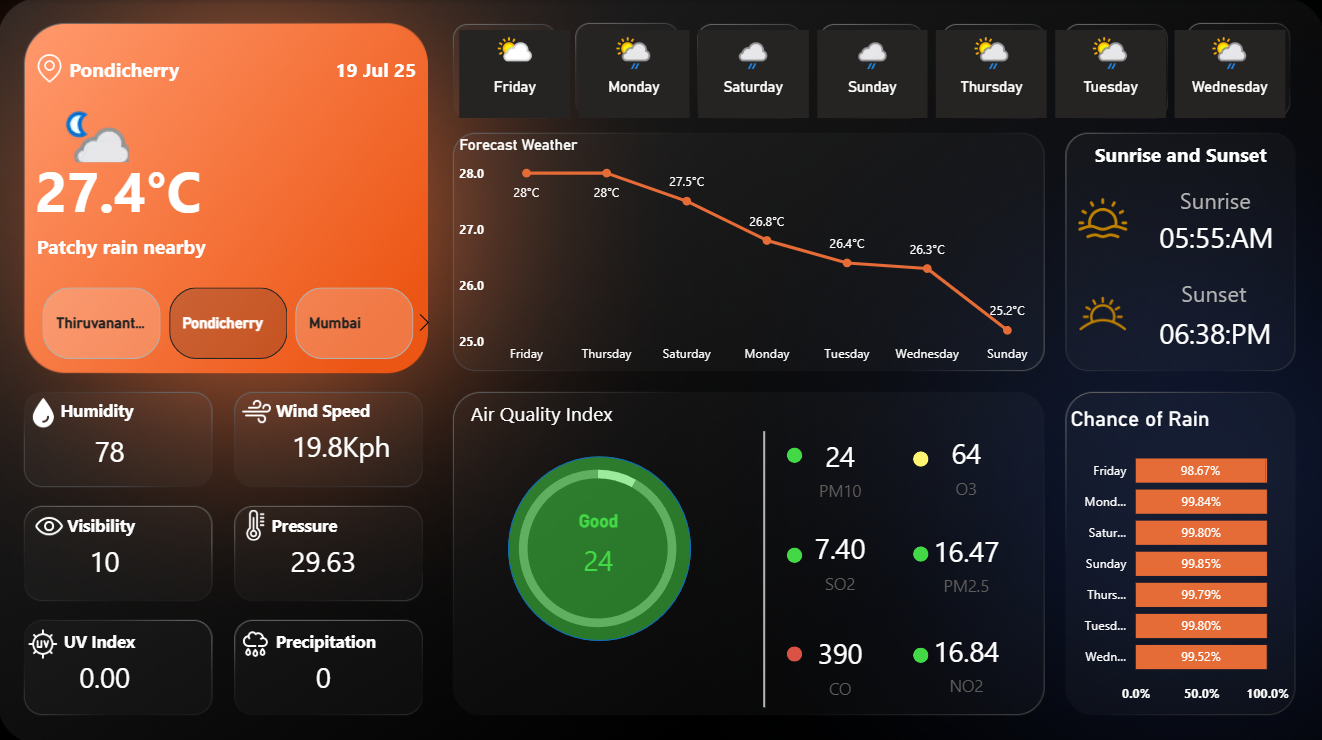

This screenshot's page, from the dashboard's own definition file:
{"tool":"powerbi","page":{"name":"Weather_Dashboard","canvas":[1280,720],"ordinal":0},"visuals":[{"type":"donutChart","fields":{"Y":["Sum(Current.current.air_quality.pm10)","_Measure.Left_value_PM10"]},"box":[468.3,430,221.7,200],"z":0},{"type":"shape","box":[491.7,440,176.7,178.3],"z":1000},{"type":"advancedSlicerVisual","fields":{"Values":["Locations.location.name"]},"box":[17.9,273.1,408.1,79.7],"z":2000},{"type":"shape","box":[35.8,126.8,190.2,110.6],"z":3000},{"type":"shape","box":[37,217.2,188.1,41.3],"z":4000},{"type":"shape","box":[68.3,45.5,188.6,40.6],"z":5000},{"type":"shape","box":[250.4,45.5,152.8,40.6],"z":6000},{"type":"image","box":[30.9,45.5,37.4,40.6],"z":7000},{"type":"cardVisual","fields":{"Data":["Min(Current.current.condition.icon)"]},"box":[35.8,86.2,95.9,76.4],"z":8000},{"type":"image","box":[24.4,487.7,50.4,40.6],"z":9000},{"type":"image","box":[222.7,601.5,50.4,39],"z":10000},{"type":"image","box":[17.9,601.5,50.4,39],"z":11000},{"type":"image","box":[224.4,377.2,50.4,39],"z":12000},{"type":"image","box":[19.5,378.8,48.8,39],"z":13000},{"type":"image","box":[222.7,487.7,50.4,39],"z":14000},{"type":"textbox","box":[43.9,380.4,104,37.4],"z":15000},{"type":"textbox","box":[248.7,380.4,115.4,37.4],"z":16000},{"type":"textbox","box":[50.4,491,97.5,37.4],"z":17000},{"type":"textbox","box":[250.4,491,89.4,37.4],"z":18000},{"type":"textbox","box":[48.8,603.2,99.2,37.4],"z":19000},{"type":"textbox","box":[263.4,603.2,123.6,37.4],"z":20000},{"type":"card","fields":{"Values":["Sum(Current.current.humidity)"]},"box":[68.3,400,78.3,71.7],"z":21000},{"type":"card","fields":{"Values":["_Measure.Wind_Speed"]},"box":[274.8,399.9,112.2,65],"z":22000},{"type":"card","fields":{"Values":["Sum(Current.current.pressure_in)"]},"box":[274.8,510.5,78,65],"z":23000},{"type":"card","fields":{"Values":["Sum(Current.current.vis_km)"]},"box":[63.4,510.5,78,65],"z":24000},{"type":"card","fields":{"Values":["Sum(Current.current.uv)"]},"box":[63.4,622.7,78,65],"z":25000},{"type":"card","fields":{"Values":["Sum(Current.current.precip_mm)"]},"box":[274.8,622.7,78,65],"z":26000},{"type":"advancedSlicerVisual","fields":{"Values":["Forecast_Day.Day_Name"]},"box":[440.6,24.4,811.3,95.9],"z":27000},{"type":"lineChart","title":"Forecast Weather","fields":{"Y":["Sum(Forecast_Day.forecast.forecastday.day.avgtemp_c)"],"Category":["Forecast_Day.Day_Name"]},"box":[440,131.7,570,228.3],"z":28000},{"type":"textbox","box":[1031.7,131.7,220,50],"z":29000},{"type":"shape","box":[1120.8,209.9,136.3,37.4],"z":30000},{"type":"shape","box":[1120.6,303.3,136.7,36.7],"z":31000},{"type":"textbox","box":[1120.6,173.3,108.3,53.3],"z":32000},{"type":"textbox","box":[1078.9,263.3,190,58.3],"z":33000},{"type":"image","box":[1031.7,268.3,70,70],"z":34000},{"type":"image","box":[1031.7,181.7,70,56.7],"z":35000},{"type":"textbox","box":[451.7,381.7,220,50],"z":36000},{"type":"card","fields":{"Values":["Sum(Current.current.air_quality.pm10)"]},"box":[761.7,416.7,103.3,71.7],"z":37000},{"type":"card","fields":{"Values":["Sum(Current.current.air_quality.pm2_5)"]},"box":[883.3,505,103.3,76.7],"z":38000},{"type":"card","fields":{"Values":["Sum(Current.current.air_quality.no2)"]},"box":[883.3,601.7,103.3,76.7],"z":39000},{"type":"card","fields":{"Values":["Sum(Current.current.air_quality.o3)"]},"box":[883.3,411.7,103.3,76.7],"z":40000},{"type":"card","fields":{"Values":["Sum(Current.current.air_quality.so2)"]},"box":[761.1,505,103.3,71.7],"z":41000},{"type":"card","fields":{"Values":["Sum(Current.current.air_quality.co)"]},"box":[761.1,606.7,103.3,71.7],"z":42000},{"type":"shape","box":[761.1,431.7,15,15],"z":43000},{"type":"shape","box":[761.1,623.3,15,15],"z":44000},{"type":"shape","box":[761.1,528.3,15,15],"z":45000},{"type":"shape","box":[883.3,435,15,15],"z":46000},{"type":"shape","box":[883.3,526.7,15,15],"z":47000},{"type":"shape","box":[883.3,625,15,15],"z":48000},{"type":"shape","box":[718.3,416.7,43.3,266.7],"z":49000},{"type":"card","fields":{"Values":["Sum(Current.current.air_quality.pm10)"]},"box":[518.3,491.7,121.7,78.3],"z":50000},{"type":"hundredPercentStackedBarChart","title":"Chance of Rain","fields":{"Category":["Forecast_Day.Day_Name"],"Y":["Sum(Forecast_Hour.forecast.forecastday.hour.chance_of_rain)","_Measure.Left_value_Rain"]},"box":[1030.3,392.1,220.8,295.6],"z":51000}]}

Visuals, with their boxes in screenshot pixels (x1, y1, x2, y2), scaled from the page's 1280x720 canvas onto the 1322x740 screenshot:
donutChart - Sum(Current.current.air_quality.pm10) x _Measure.Left_value_PM10: bbox=[484, 442, 713, 647]
shape: bbox=[508, 452, 690, 635]
advancedSlicerVisual - Locations.location.name: bbox=[18, 281, 440, 363]
shape: bbox=[37, 130, 233, 244]
shape: bbox=[38, 223, 232, 266]
shape: bbox=[71, 47, 265, 88]
shape: bbox=[259, 47, 416, 88]
image: bbox=[32, 47, 71, 88]
cardVisual - Min(Current.current.condition.icon): bbox=[37, 89, 136, 167]
image: bbox=[25, 501, 77, 543]
image: bbox=[230, 618, 282, 658]
image: bbox=[18, 618, 71, 658]
image: bbox=[232, 388, 284, 428]
image: bbox=[20, 389, 71, 429]
image: bbox=[230, 501, 282, 541]
textbox: bbox=[45, 391, 153, 429]
textbox: bbox=[257, 391, 376, 429]
textbox: bbox=[52, 505, 153, 543]
textbox: bbox=[259, 505, 351, 543]
textbox: bbox=[50, 620, 153, 658]
textbox: bbox=[272, 620, 400, 658]
card - Sum(Current.current.humidity): bbox=[71, 411, 151, 485]
card - _Measure.Wind_Speed: bbox=[284, 411, 400, 478]
card - Sum(Current.current.pressure_in): bbox=[284, 525, 364, 591]
card - Sum(Current.current.vis_km): bbox=[65, 525, 146, 591]
card - Sum(Current.current.uv): bbox=[65, 640, 146, 707]
card - Sum(Current.current.precip_mm): bbox=[284, 640, 364, 707]
advancedSlicerVisual - Forecast_Day.Day_Name: bbox=[455, 25, 1293, 124]
"Forecast Weather" lineChart: bbox=[454, 135, 1043, 370]
textbox: bbox=[1066, 135, 1293, 187]
shape: bbox=[1158, 216, 1298, 254]
shape: bbox=[1157, 312, 1299, 349]
textbox: bbox=[1157, 178, 1269, 233]
textbox: bbox=[1114, 271, 1311, 331]
image: bbox=[1066, 276, 1138, 348]
image: bbox=[1066, 187, 1138, 245]
textbox: bbox=[467, 392, 694, 444]
card - Sum(Current.current.air_quality.pm10): bbox=[787, 428, 893, 502]
card - Sum(Current.current.air_quality.pm2_5): bbox=[912, 519, 1019, 598]
card - Sum(Current.current.air_quality.no2): bbox=[912, 618, 1019, 697]
card - Sum(Current.current.air_quality.o3): bbox=[912, 423, 1019, 502]
card - Sum(Current.current.air_quality.so2): bbox=[786, 519, 893, 593]
card - Sum(Current.current.air_quality.co): bbox=[786, 624, 893, 697]
shape: bbox=[786, 444, 802, 459]
shape: bbox=[786, 641, 802, 656]
shape: bbox=[786, 543, 802, 558]
shape: bbox=[912, 447, 928, 462]
shape: bbox=[912, 541, 928, 557]
shape: bbox=[912, 642, 928, 658]
shape: bbox=[742, 428, 787, 702]
card - Sum(Current.current.air_quality.pm10): bbox=[535, 505, 661, 586]
"Chance of Rain" hundredPercentStackedBarChart: bbox=[1064, 403, 1292, 707]
